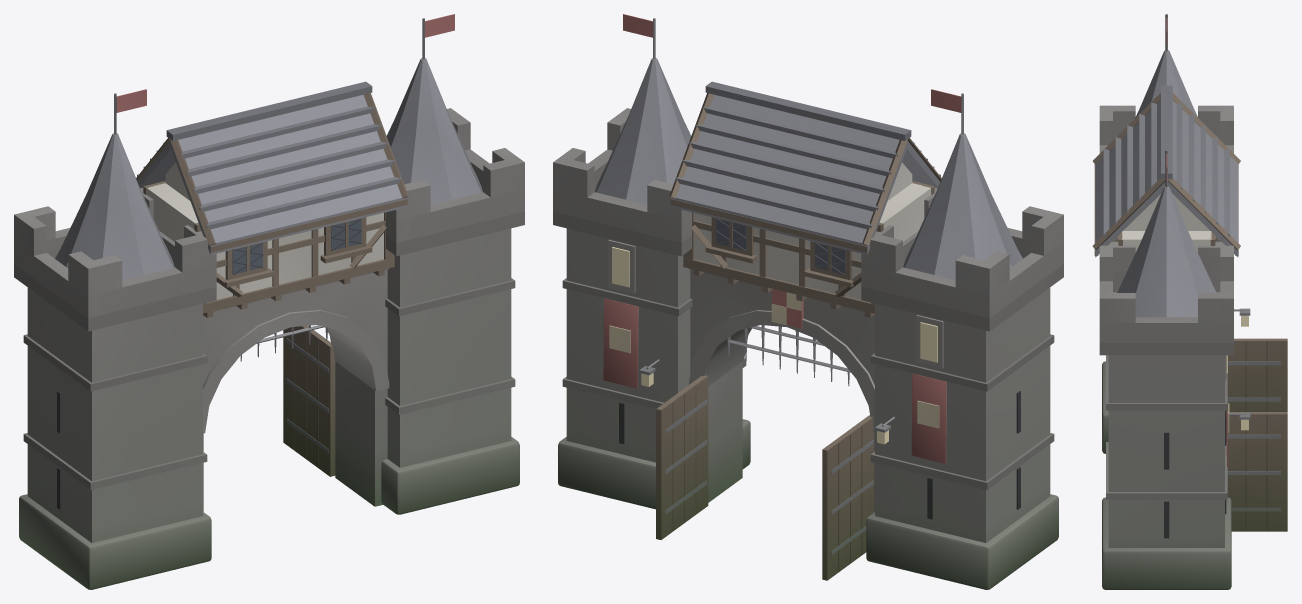
Rendered from town_gate.gltf.
The picture shows the model from 3 angles, left to right: view 1: azimuth 30°, elevation 25°; view 2: azimuth 150°, elevation 25°; view 3: azimuth 270°, elevation 25°; orthographic projection. The views are drawn at different scales.
Visible parts, largest first — view 1: Body; view 2: Body; view 3: Body.
Part boxes in pixels (<box>): Body: <box>14,14,524,589</box>; Body: <box>553,14,1063,589</box>; Body: <box>1092,14,1287,589</box>.
Size of the model in its own units: 10.2 by 10.2 by 4.36.
